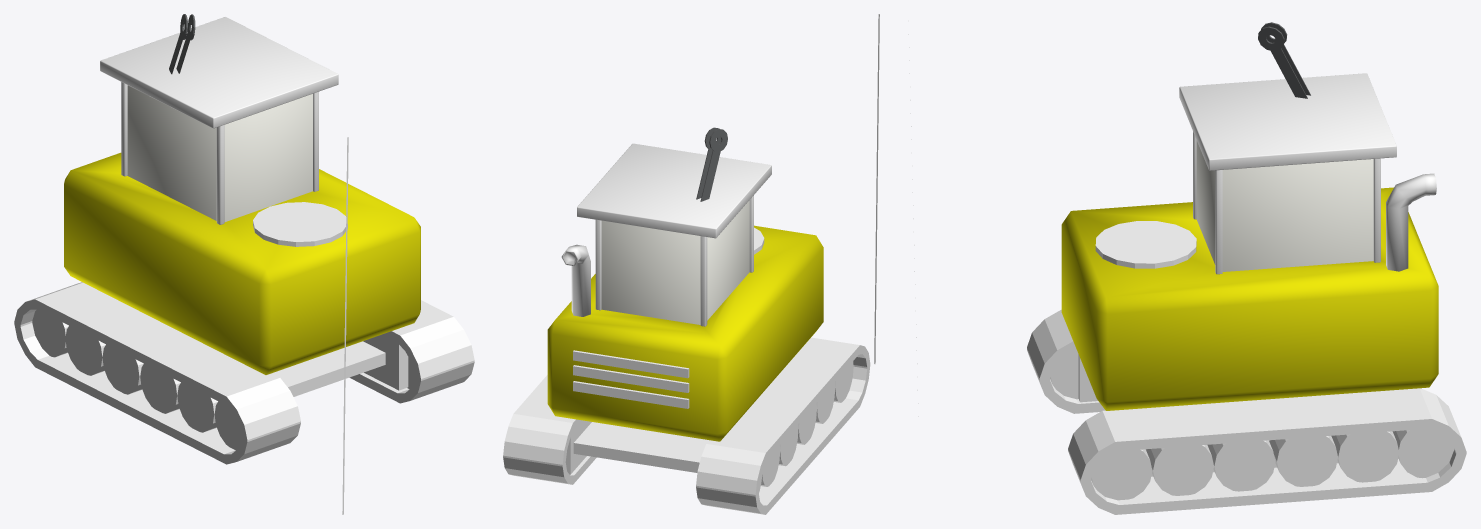
3 renders of one model, left to right at view 1: azimuth 30°, elevation 25°; view 2: azimuth 150°, elevation 25°; view 3: azimuth 270°, elevation 25°, orthographic. The views are drawn at different scales.
Visible parts, largest first — view 1: Cube.002, Plane.001, Circle.001, Circle, Cylinder.005, Cube.004, Cube.005, Cylinder.022, Cylinder.020, Cylinder.021, Cylinder.023, Cylinder.024 (+3 smaller); view 2: Cube.002, Plane.001, Circle.001, Circle, Cube.004, Cylinder, Cube.009, Cube.007, Cube.008, Cylinder.001, Плоскость, Cube.005 (+5 smaller); view 3: Cube.002, Plane.001, Circle, Cylinder.005, Circle.001, Cylinder.016, Cylinder.015, Cylinder.014, Cylinder.017, Cylinder, Cylinder.013, Cylinder.018 (+2 smaller).
Boxes of the visible parts, x1,y1,x2,y2 form: Cube.002: (64,152,420,374); Plane.001: (100,17,338,224); Circle.001: (14,282,300,464); Circle: (349,300,474,403); Cylinder.005: (253,202,347,246); Cube.004: (272,341,385,396); Cube.005: (363,335,408,390); Cylinder.022: (102,344,143,394); Cylinder.020: (177,382,217,432); Cylinder.021: (140,364,180,413); Cylinder.023: (65,325,105,375); Cylinder.024: (32,309,68,357); Cube.002: (547,225,823,441); Plane.001: (577,143,771,326); Circle.001: (696,337,870,514); Circle: (503,375,596,484); Cube.004: (573,422,708,472); Cylinder: (561,244,590,316); Cube.009: (573,381,689,408); Cube.007: (573,350,689,378); Cube.008: (573,365,689,392); Cylinder.001: (696,127,727,201); Плоскость: (874,14,879,363); Cube.005: (565,420,591,474); Cube.002: (1061,187,1438,410); Plane.001: (1179,73,1396,274); Circle: (1068,388,1466,514); Cylinder.005: (1095,221,1196,268); Circle.001: (1027,309,1105,413); Cylinder.016: (1269,436,1337,486); Cylinder.015: (1207,440,1275,491); Cylinder.014: (1146,445,1213,495); Cylinder.017: (1331,431,1399,482); Cylinder: (1386,173,1436,271); Cylinder.013: (1091,449,1152,500); Cylinder.018: (1392,428,1454,478).
Bounding box in the file's own units: 26.7 × 31.79 × 39.28.
